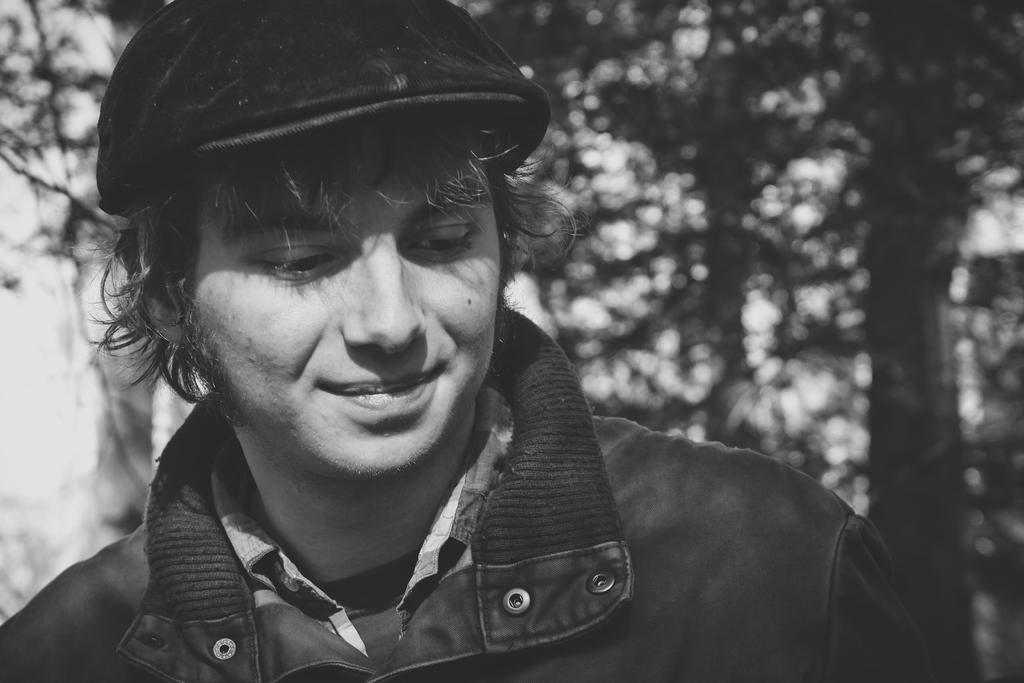Hat: (102, 0, 554, 215)
